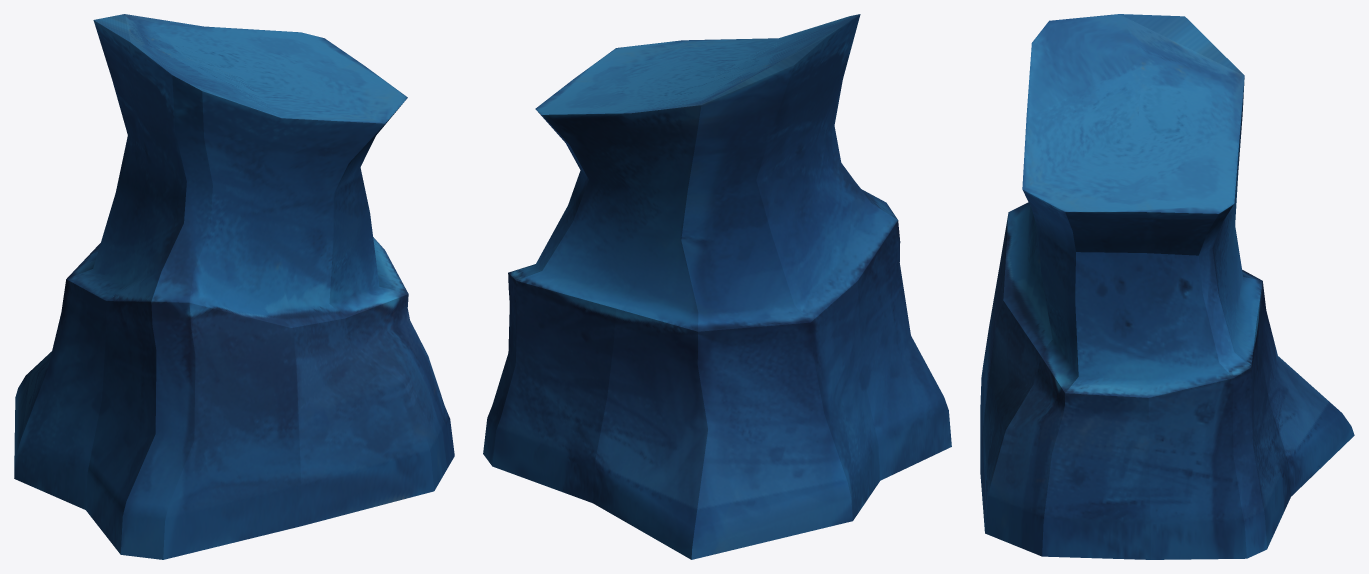
The model's file is rock_mid.fbx.
3 renders of one model, left to right at view 1: azimuth 30°, elevation 25°; view 2: azimuth 150°, elevation 25°; view 3: azimuth 270°, elevation 25°, orthographic. The views are drawn at different scales.
Parts seen in each view (by area): view 1: zooshi_rock_mid; view 2: zooshi_rock_mid; view 3: zooshi_rock_mid.
Boxes of the visible parts, x1=… form: zooshi_rock_mid: x1=14, y1=14, x2=454, y2=559; zooshi_rock_mid: x1=483, y1=14, x2=951, y2=559; zooshi_rock_mid: x1=980, y1=14, x2=1354, y2=559.
Bounding box in the file's own units: 3.19 × 3.81 × 3.11.
